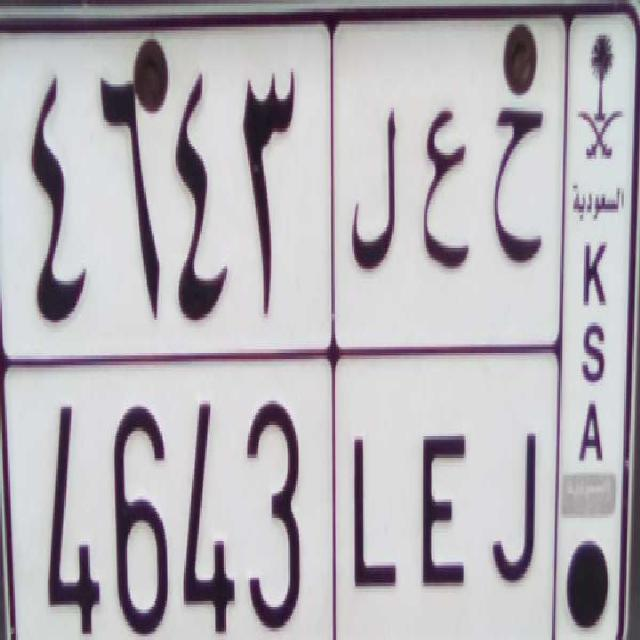license_plate: (4, 342, 558, 640)
